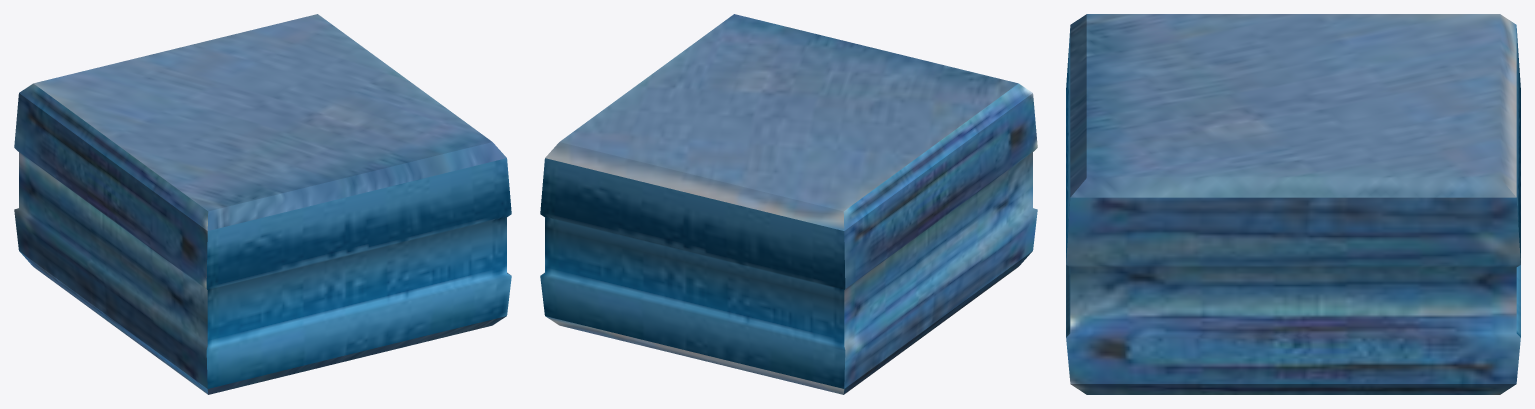
File: towels.FBX
3 renders of one model, left to right at view 1: azimuth 30°, elevation 25°; view 2: azimuth 150°, elevation 25°; view 3: azimuth 270°, elevation 25°, orthographic. The views are drawn at different scales.
Visible parts, largest first — view 1: towels; view 2: towels; view 3: towels.
Boxes of the visible parts, left/top/right/bottom form: towels: left=14, top=14, right=511, bottom=394; towels: left=540, top=14, right=1037, bottom=394; towels: left=1066, top=14, right=1520, bottom=394.
Size of the model in its own units: 18.64 by 10.71 by 20.35.
